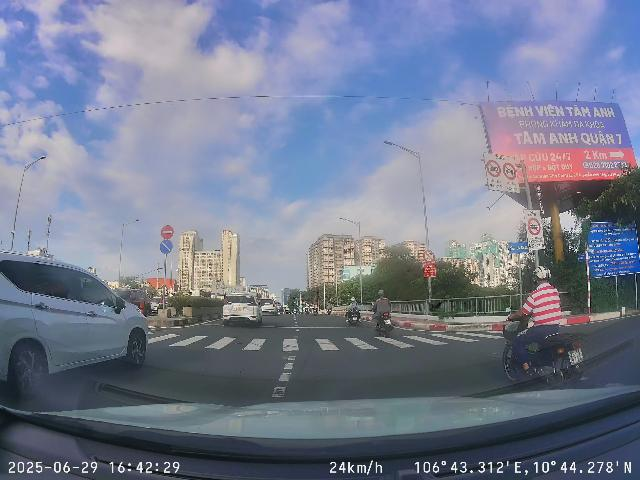102-cam-di-nguoc-chieu: (161, 225, 174, 239)
106-cam-oto-tai: (487, 160, 501, 177), (503, 162, 516, 180)
302a-huong-phai-di-vong-chuong-ngai-vat-1: (160, 240, 173, 254)
